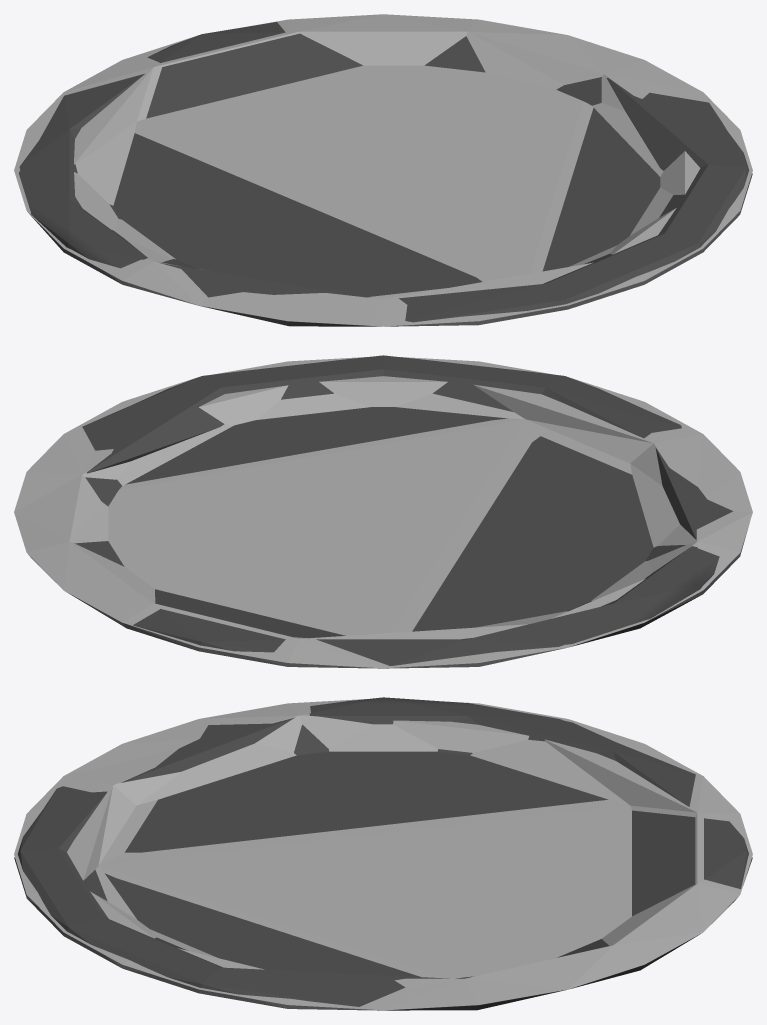
File: Plate_9_unpacked.glb
3 views of the same model, one above another, from view 1: azimuth 30°, elevation 25°; view 2: azimuth 150°, elevation 25°; view 3: azimuth 270°, elevation 25° (orthographic).
Visible parts, largest first — view 1: world; view 2: world; view 3: world.
Part boxes in pixels (box(x1,y1,x2,y2)): world: box(14, 14, 752, 326); world: box(14, 355, 752, 668); world: box(14, 697, 752, 1010).
Bounding box in the file's own units: 0.2916 × 0.0157 × 0.2916.
1 material, 1 textured.
